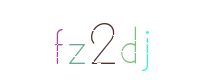2: (62, 0, 142, 80)
D: (65, 0, 145, 80)
F: (18, 0, 98, 80)
J: (107, 0, 187, 80)
Z: (62, 0, 142, 80)
